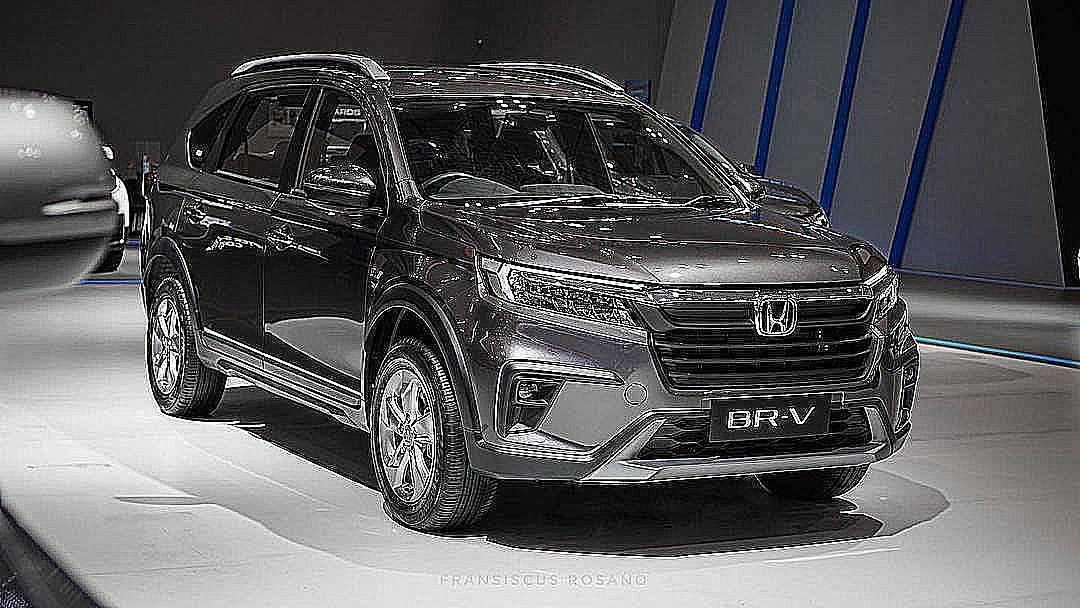Car hood: (412, 193, 896, 289)
Driver-s door - -F-R-: (260, 69, 369, 403)
Fender - -F-R-: (362, 176, 485, 404)
Fender - -R-R-: (148, 159, 194, 279)
Front bumper: (442, 291, 929, 489)
Headlight - -L-: (854, 260, 904, 325)
Headlight - -R-: (469, 247, 652, 337)
Passenger-s door - -R-R-: (173, 72, 302, 393)
Rear bumper: (130, 210, 156, 329)
Rear light - -R-: (138, 151, 159, 205)
Side bumper - -R-: (187, 322, 377, 440)
Side mirror - -L-: (718, 163, 769, 204)
Side mirror - -R-: (295, 157, 383, 217)
